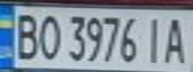3: (63, 11, 87, 62)
6: (118, 13, 142, 64)
7: (103, 12, 121, 63)
9: (81, 12, 106, 62)
A: (160, 13, 190, 64)
B: (9, 9, 42, 61)
I: (139, 13, 169, 64)
O: (36, 10, 63, 61)
